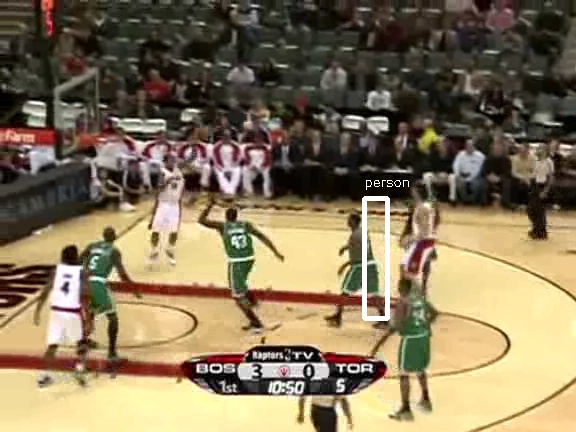person: (347, 224, 381, 305), (346, 224, 380, 305), (348, 224, 382, 305), (347, 223, 381, 304), (347, 225, 381, 306)
target_negative: (136, 94, 459, 316), (53, 309, 364, 413), (380, 49, 491, 167), (508, 167, 556, 323), (469, 317, 516, 411), (559, 318, 563, 356)
